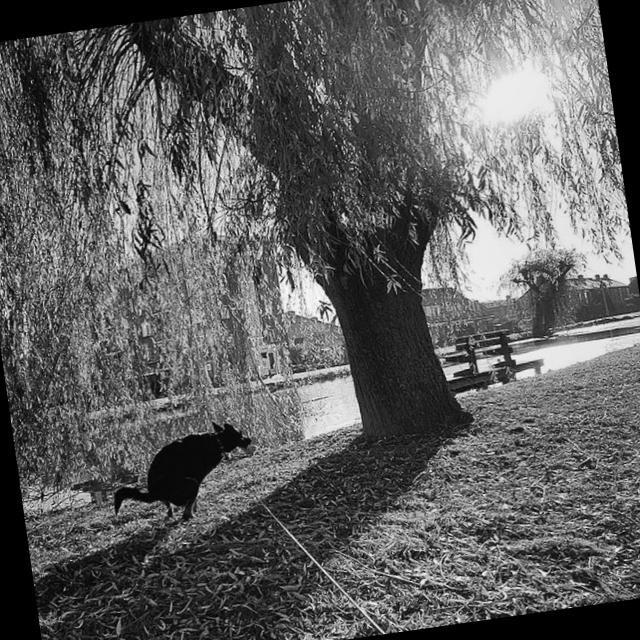squatting: (98, 410, 270, 536)
